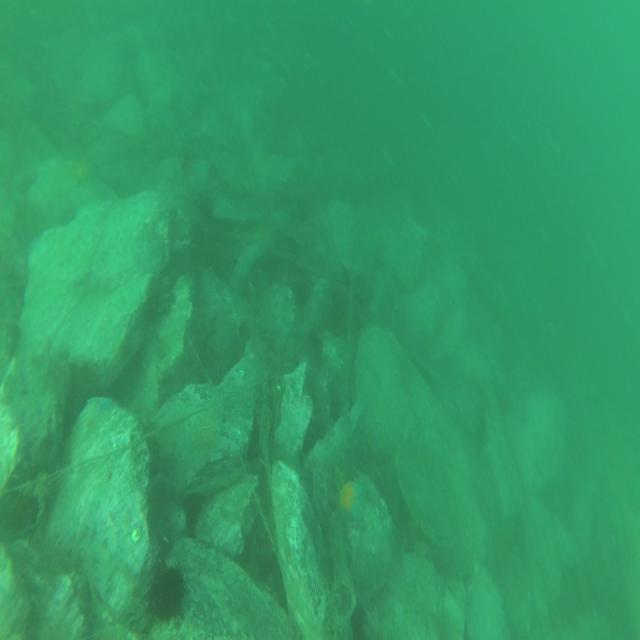echinus: (142, 561, 192, 626)
starfish: (334, 475, 372, 529), (64, 153, 100, 197)
